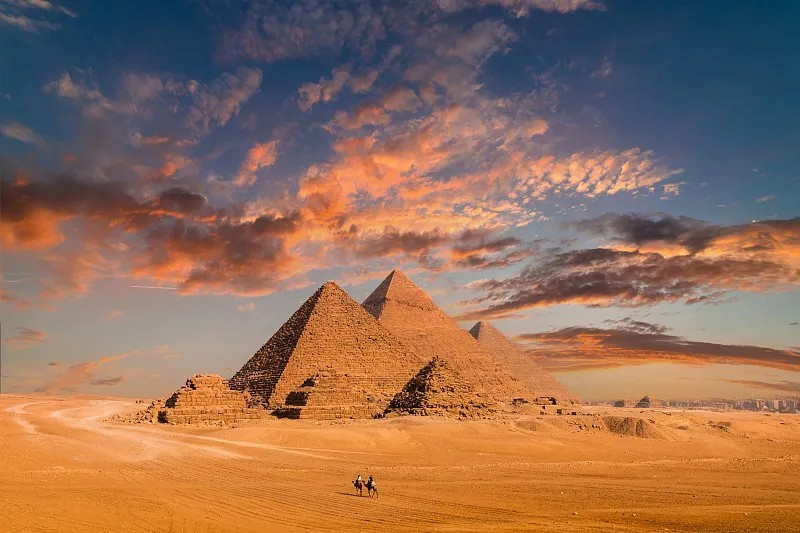Pyramid: (226, 283, 428, 418), (360, 269, 548, 410), (470, 321, 584, 407), (389, 356, 499, 419), (274, 369, 384, 419), (156, 375, 265, 422)
